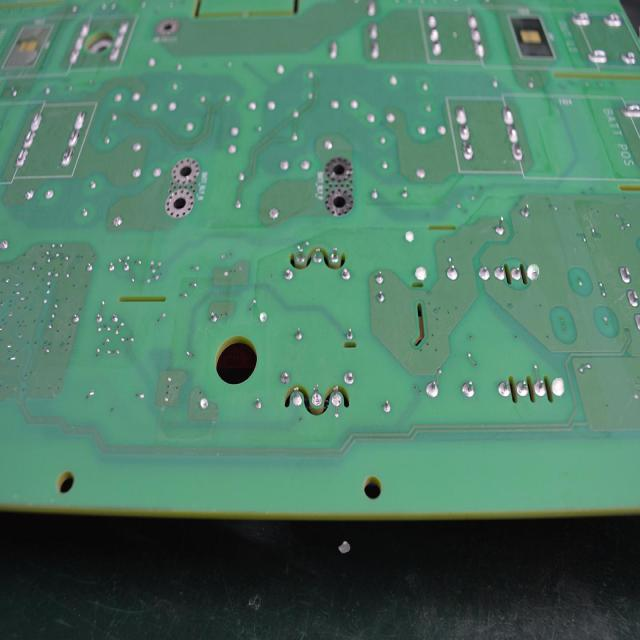redundant: (551, 378, 565, 397)
